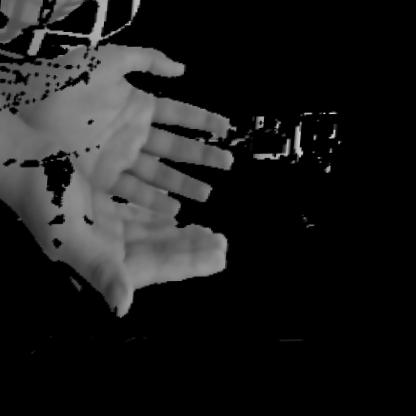dua: (0, 18, 293, 322)
